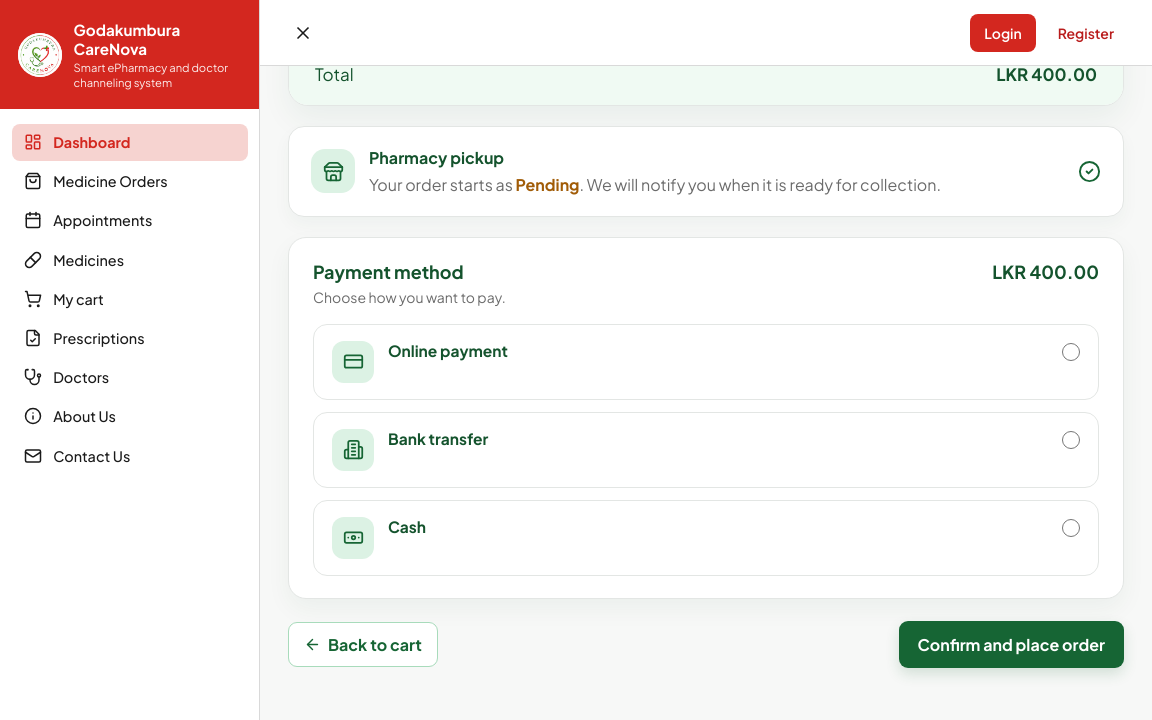
reviews pickup items then confirms the saved order
(page scrolled)
Expected: the heading "Pharmacy pickup" is shown, [369,147,504,168]
Click the radio button labelled "Cash" at (1071, 528), box [1062,519,1080,537]
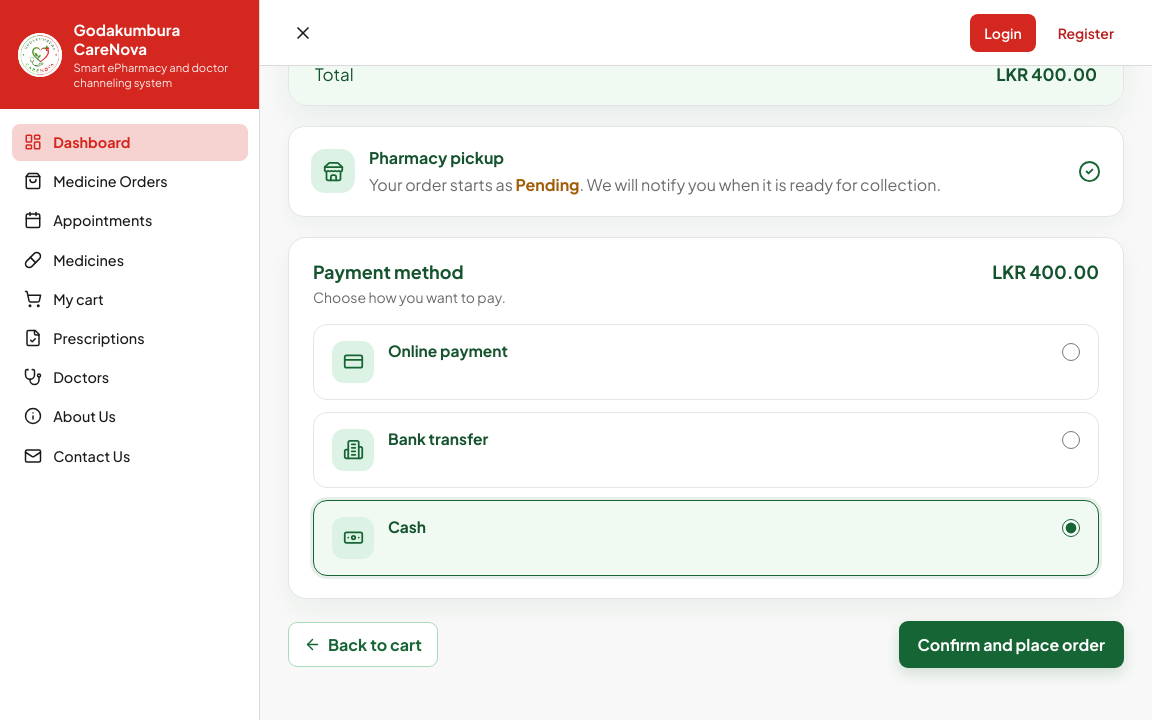
Click the button "Confirm and place order" at (1011, 644), box [898,621,1124,668]
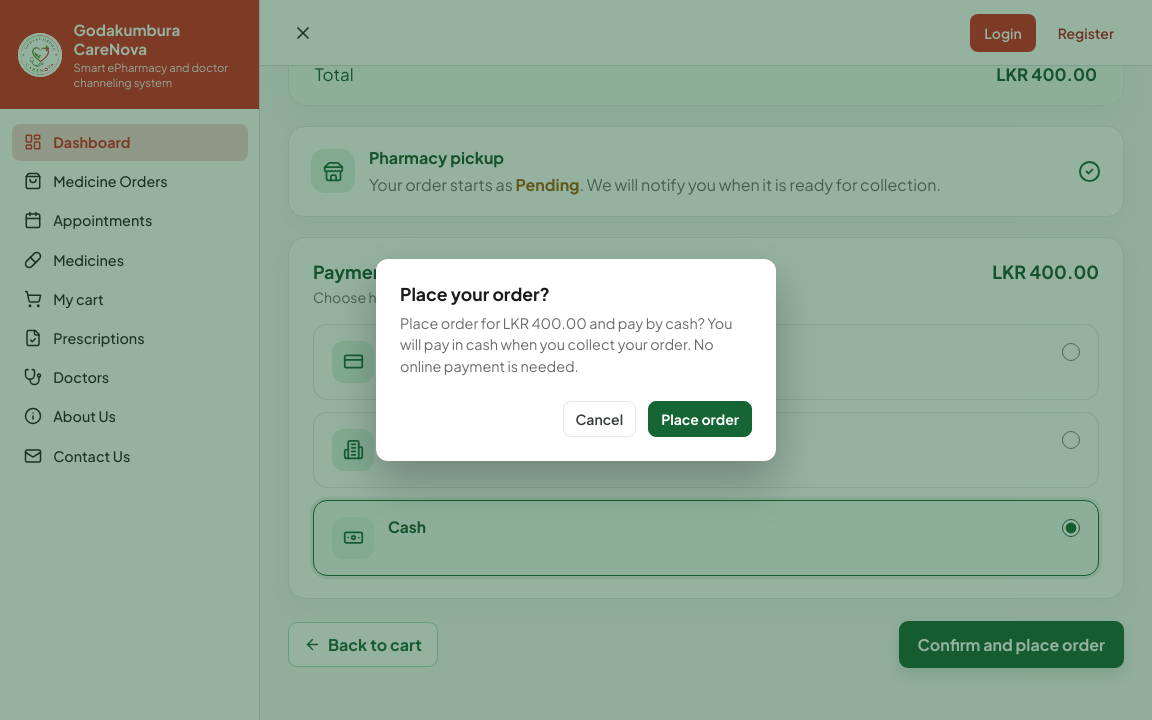
Click the button "Place order" at (700, 419), box [648,401,752,437]
(page scrolled)
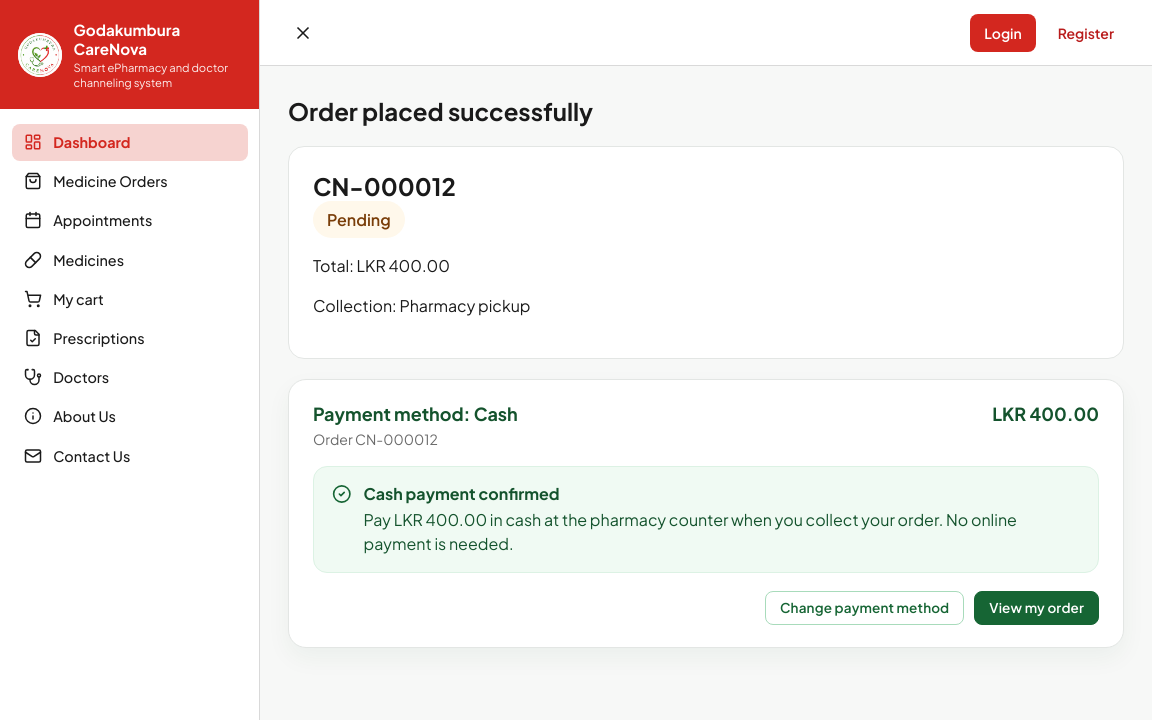
Expected: the heading "Order placed successfully" is shown, [288,96,593,126]
Expected: the text "Cash payment confirmed" is shown, [364,483,559,504]
